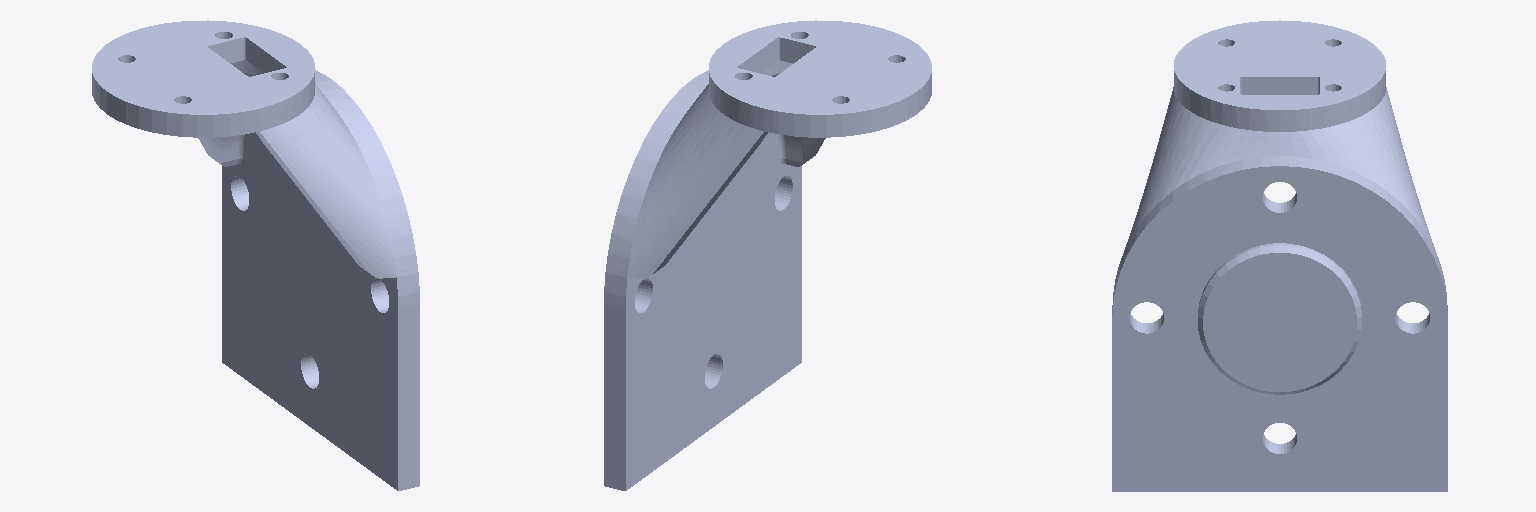
robot.urdf — 装配体2:
<?xml version="1.0" encoding="utf-8"?>
<!-- This URDF was automatically created by SolidWorks to URDF Exporter! Originally created by Stephen Brawner (brawner@gmail.com) 
     Commit Version: 1.6.0-4-g7f85cfe  Build Version: 1.6.7995.38578
     For more information, please see http://wiki.ros.org/sw_urdf_exporter -->
<robot
  name="装配体2">
  <link
    name="base_link">
    <inertial>
      <origin
        xyz="-3.6923E-18 8.0745E-35 0.0085938"
        rpy="0 0 0" />
      <mass
        value="0.035043" />
      <inertia
        ixx="1.2607E-05"
        ixy="4.0482E-38"
        ixz="1.046E-21"
        iyy="1.2607E-05"
        iyz="-5.9222E-38"
        izz="1.9178E-05" />
    </inertial>
    <visual>
      <origin
        xyz="0 0 0"
        rpy="0 0 0" />
      <geometry>
        <mesh
          filename="package://装配体2/meshes/base_link.STL" />
      </geometry>
      <material
        name="">
        <color
          rgba="0.79216 0.81961 0.93333 1" />
      </material>
    </visual>
    <collision>
      <origin
        xyz="0 0 0"
        rpy="0 0 0" />
      <geometry>
        <mesh
          filename="package://装配体2/meshes/base_link.STL" />
      </geometry>
    </collision>
  </link>
</robot>

--- What the picture shows (computed from the rendered views, not written in the file) ---
Views: 3 orthographic renders of the robot side by side, from view 1: azimuth 30°, elevation 25°; view 2: azimuth 150°, elevation 25°; view 3: azimuth 270°, elevation 25°.
Model 装配体2 with 1 links and 0 joints (none), rooted at base_link, posed all joints at 0.
Visible links, largest first — view 1: base_link; view 2: base_link; view 3: base_link.
Boxes of the visible links, left/top/right/bottom form: base_link: left=92, top=20, right=419, bottom=490; base_link: left=604, top=20, right=931, bottom=490; base_link: left=1112, top=20, right=1447, bottom=491.
Size in the robot's own frame: 0.0485 by 0.063 by 0.076 metres.
1 mesh visuals loaded from 1 distinct referenced files (1 binary STL).
